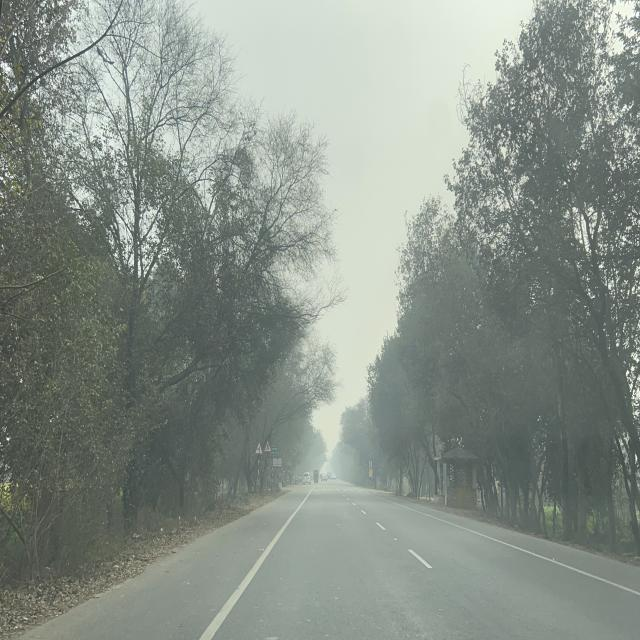GENERAL: (271, 446, 279, 456)
PEDESTRIAN_CROSSING: (264, 440, 272, 452)
SIDE_ROAD_LEFT: (254, 442, 264, 456)
